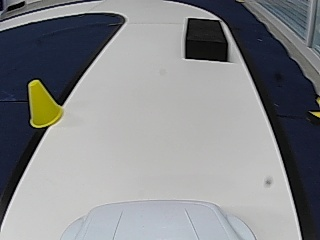block: (185, 18, 227, 61)
cone: (28, 81, 65, 127)
